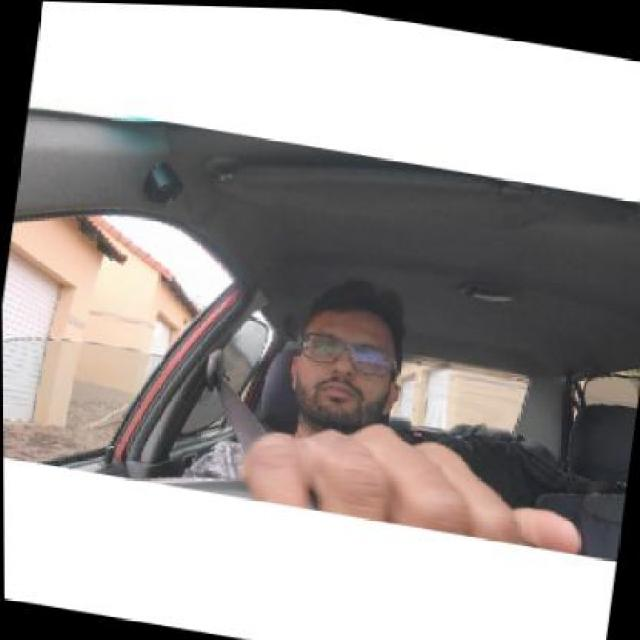person: (284, 280, 410, 432)
